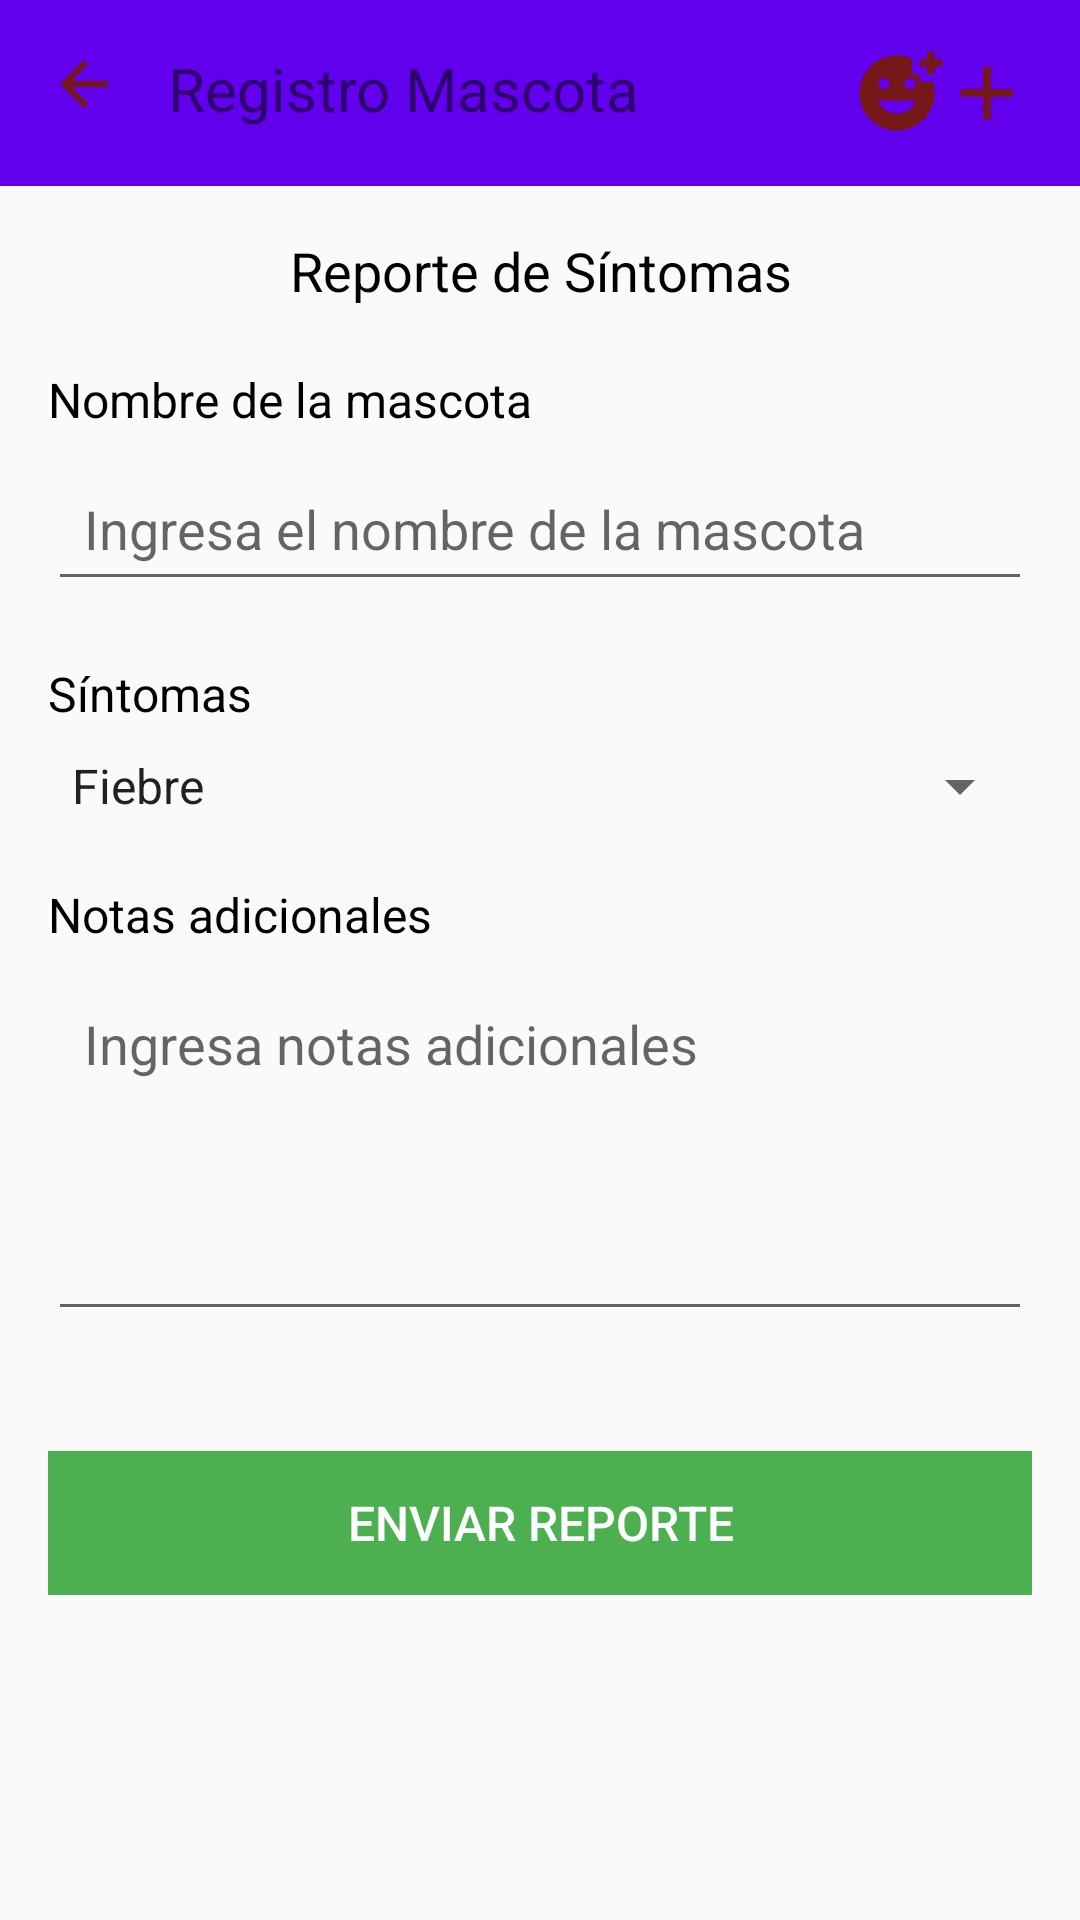

Icons on this 1080*1920 Android screen, each with its box as box=[x1, y1, x2, y2]:
add: box=[960, 66, 1014, 120]
add reaction: box=[859, 51, 942, 131]
arrow back: box=[60, 60, 108, 108]
